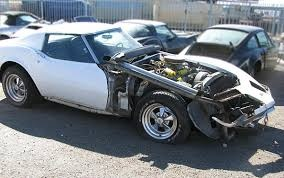Broken-glass: (204, 94, 248, 112)
Smashed: (103, 50, 264, 142)
